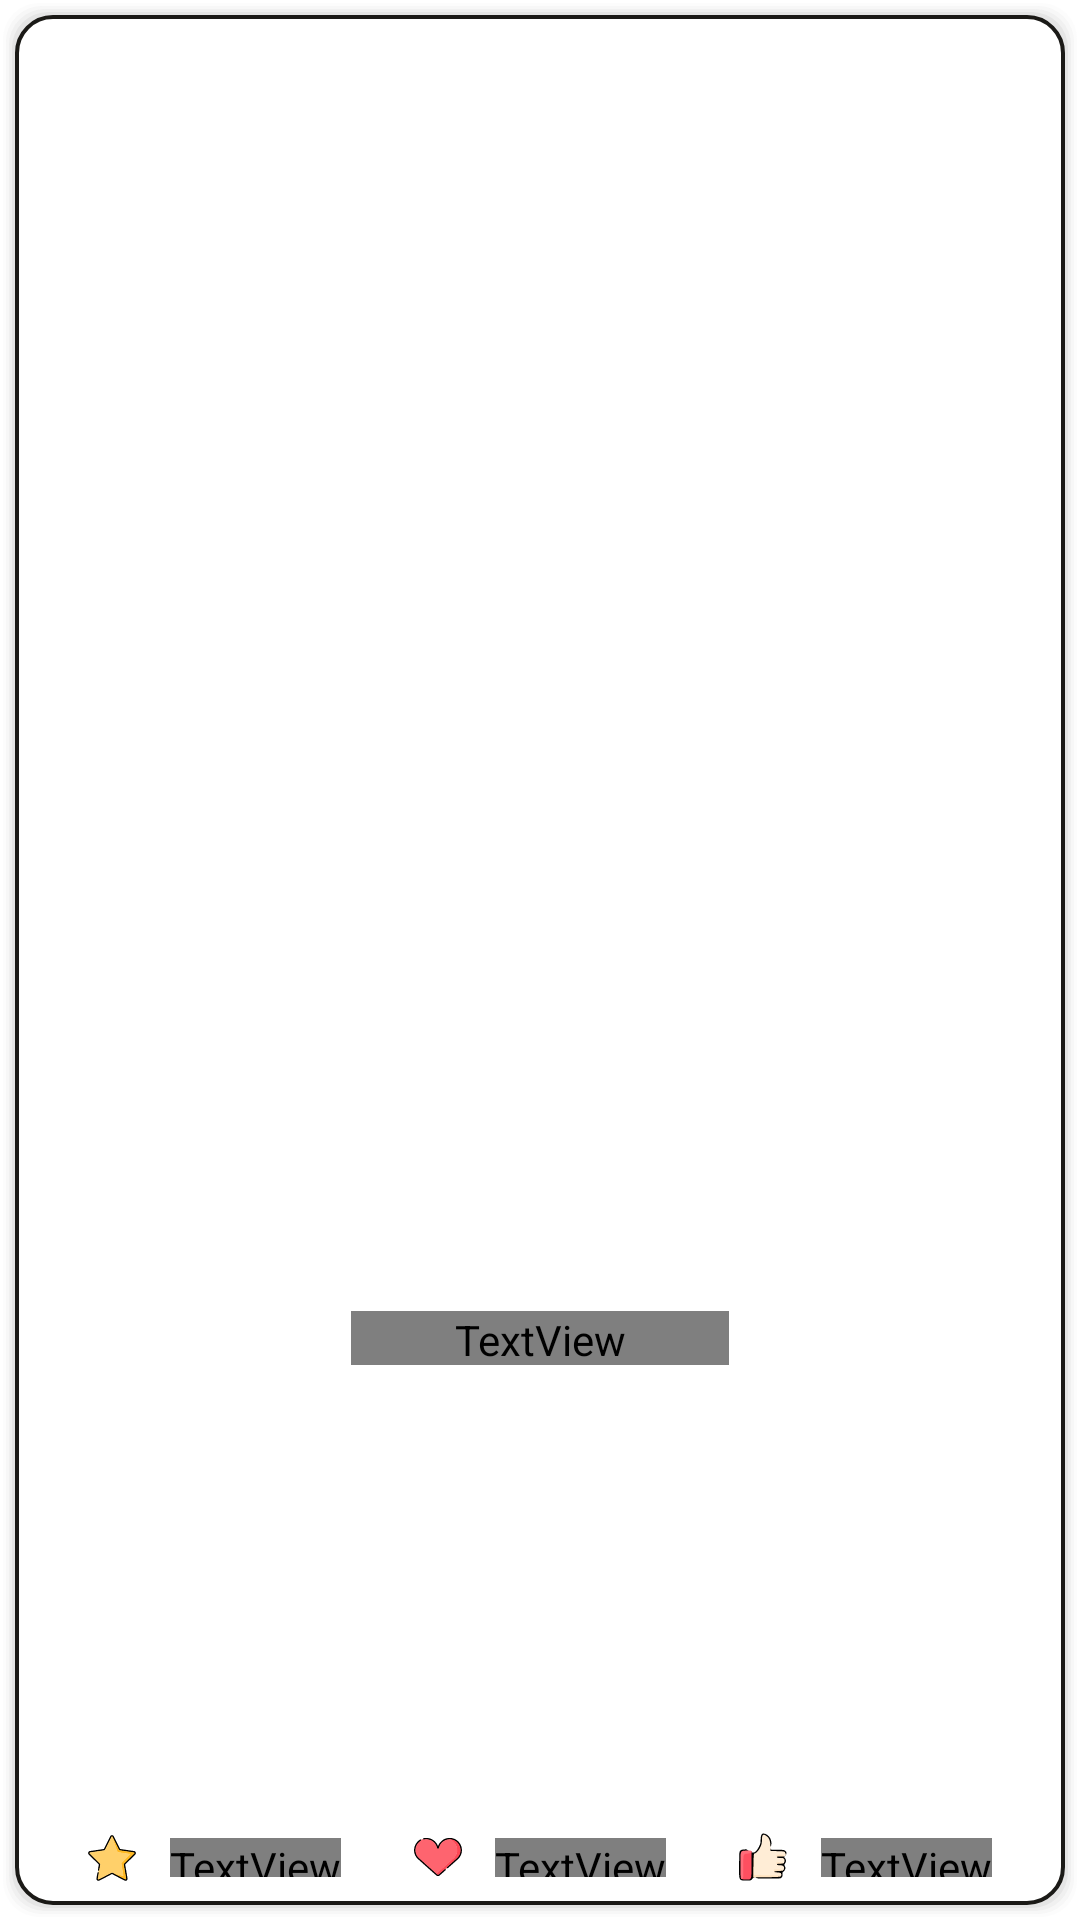

Icons on this 1080×1920 Android screen, each with its box as rect(x1, y1, x2, y2):
heart: rect(414, 1838, 462, 1876)
star: rect(88, 1835, 136, 1881)
thumb: rect(739, 1833, 787, 1881)
